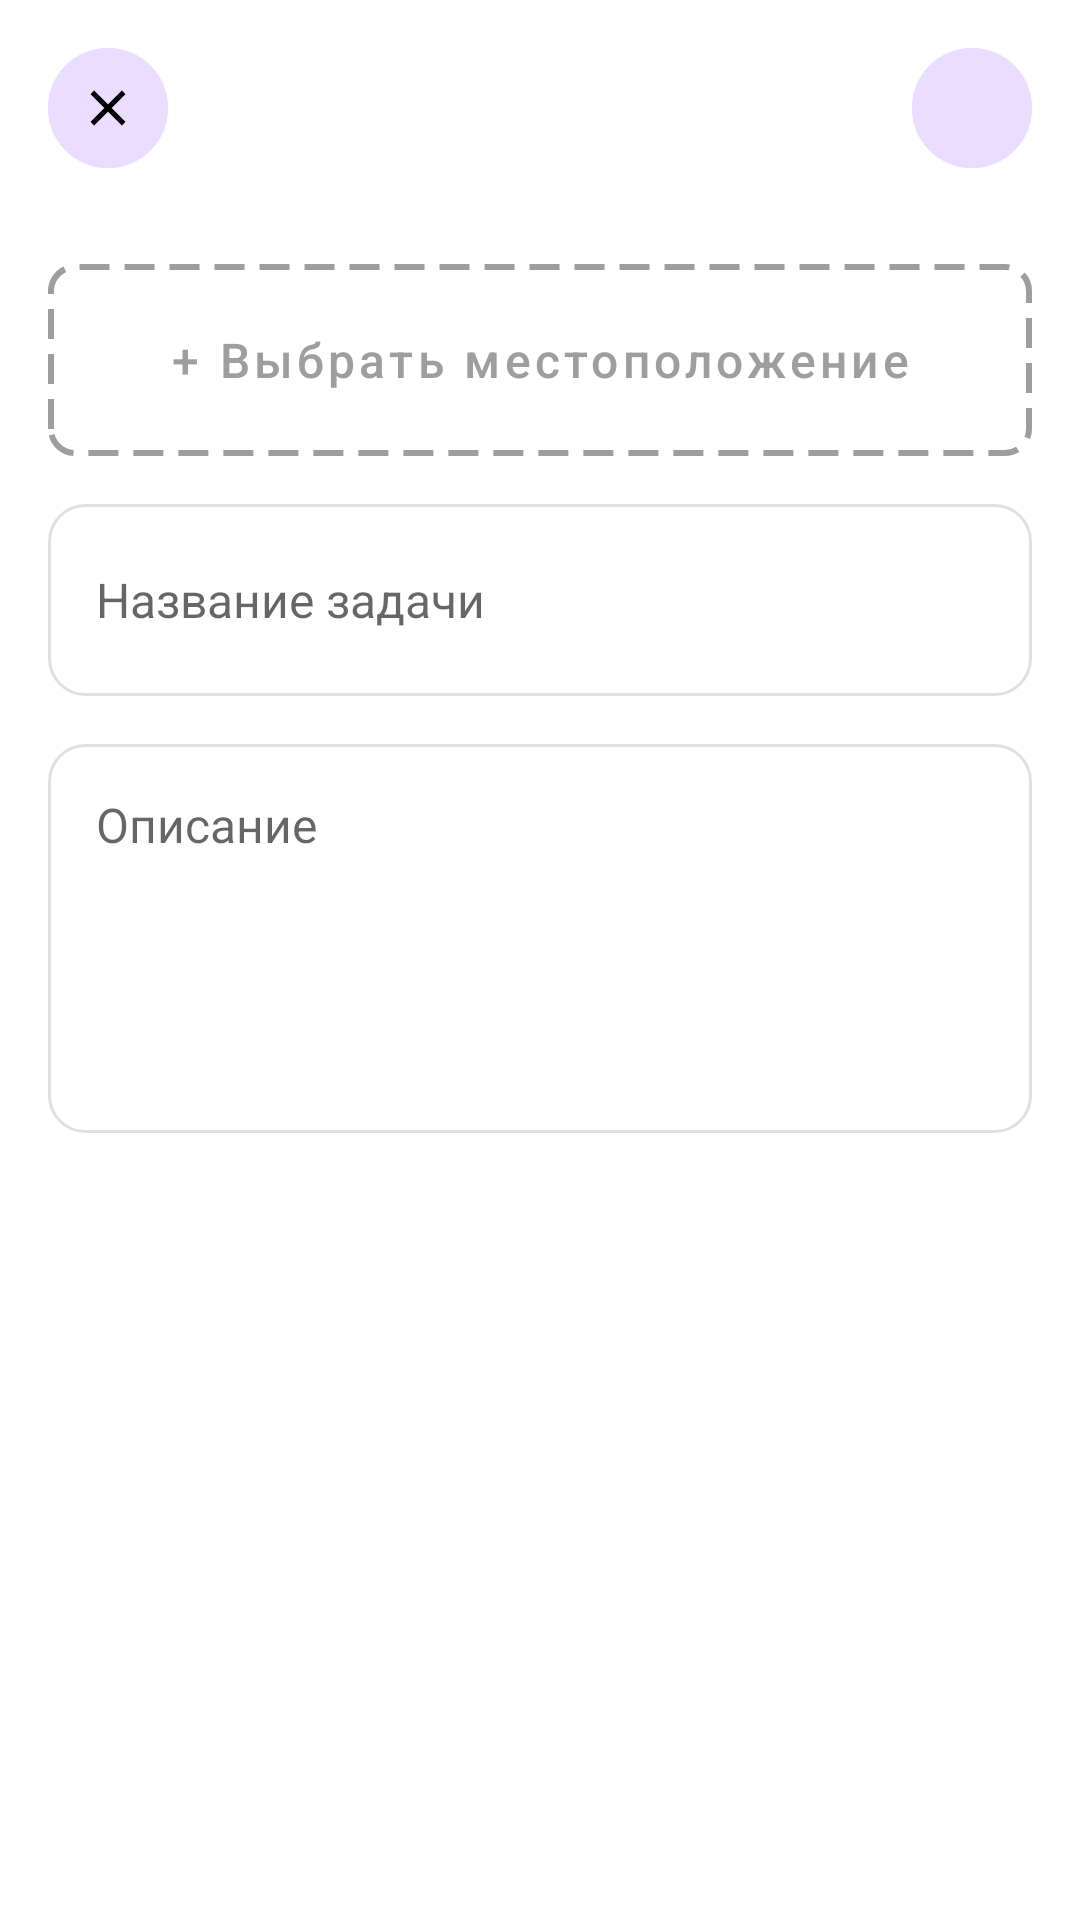

Where icons sit on this 1080×1920 app screen, as (x1, y1, x2, y2):
close: (48, 48, 168, 168)
